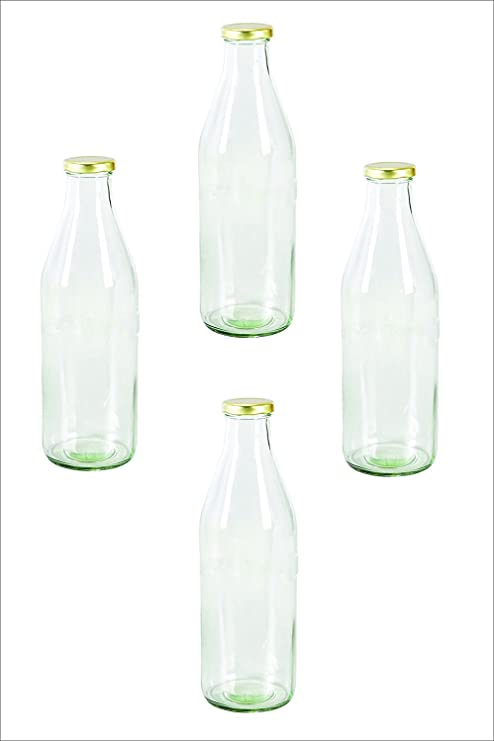glass_bottle: (331, 158, 453, 491), (195, 17, 304, 341), (38, 148, 146, 474), (195, 395, 300, 719)
